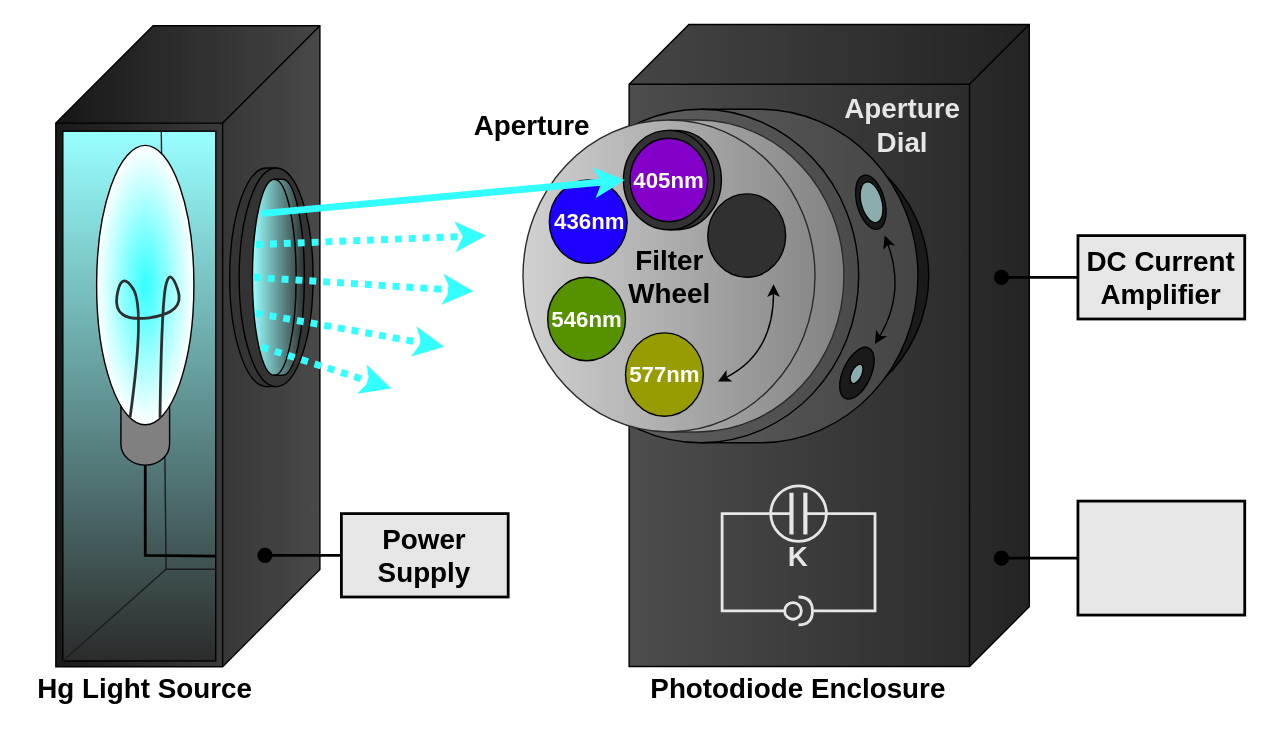
Some shapes in this 1270 by 733 pixel diagram are drawn without their labels. The box of each missing label's shape, as (x1, y1, x2, y2) in pixels:
356nm: (706, 193, 786, 277)
Light: (251, 178, 304, 375)
Tunable DC Power Supply: (1076, 499, 1245, 616)
